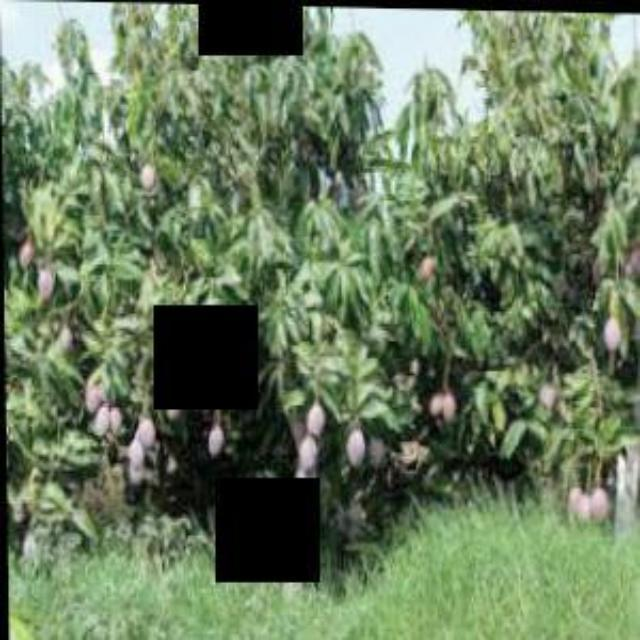tree: (5, 11, 638, 604)
